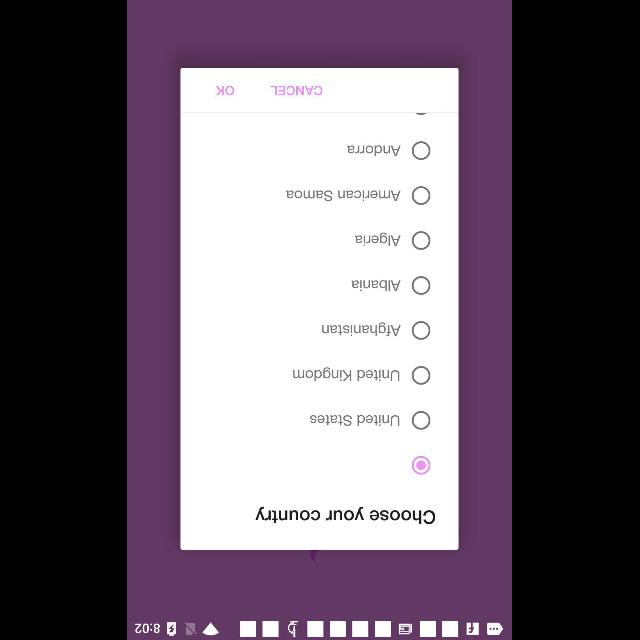checkbox: (412, 276, 432, 296), (412, 322, 432, 341), (412, 187, 432, 206), (412, 411, 432, 429), (412, 367, 432, 385), (412, 232, 432, 250), (412, 142, 432, 160), (412, 456, 432, 474)
panel: (182, 68, 458, 550)
text: (256, 506, 436, 524), (294, 367, 401, 381), (287, 190, 401, 202), (322, 322, 402, 336), (310, 414, 400, 426), (356, 232, 402, 246), (352, 279, 402, 291), (270, 85, 324, 96), (348, 146, 402, 156), (217, 84, 236, 96)
textbutton: (270, 85, 324, 96), (217, 84, 236, 96)
uppertaskbar: (128, 617, 512, 639)
